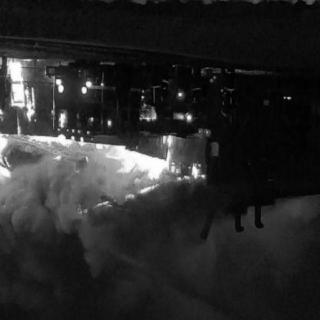Fire: (104, 119, 111, 129)
